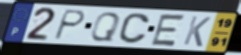2: (25, 6, 58, 42)
C: (116, 12, 152, 45)
E: (148, 13, 188, 48)
K: (181, 15, 213, 48)
P: (51, 8, 87, 41)
Q: (88, 11, 122, 43)
